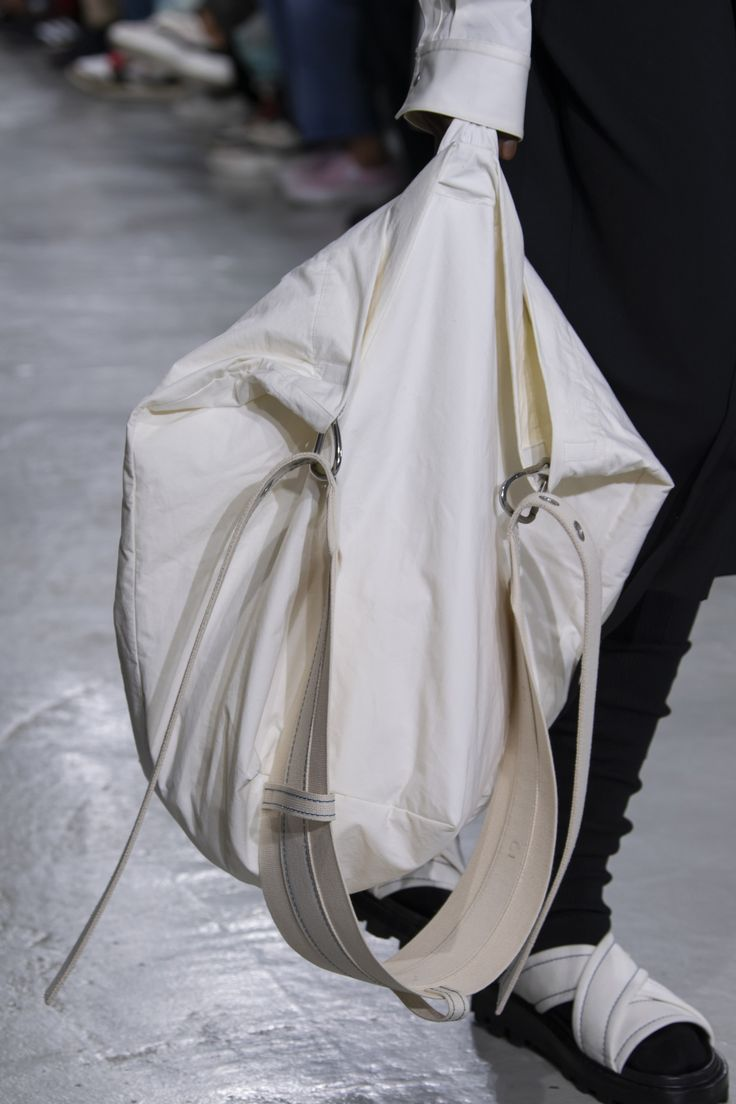nylon: (115, 1, 676, 1020)
